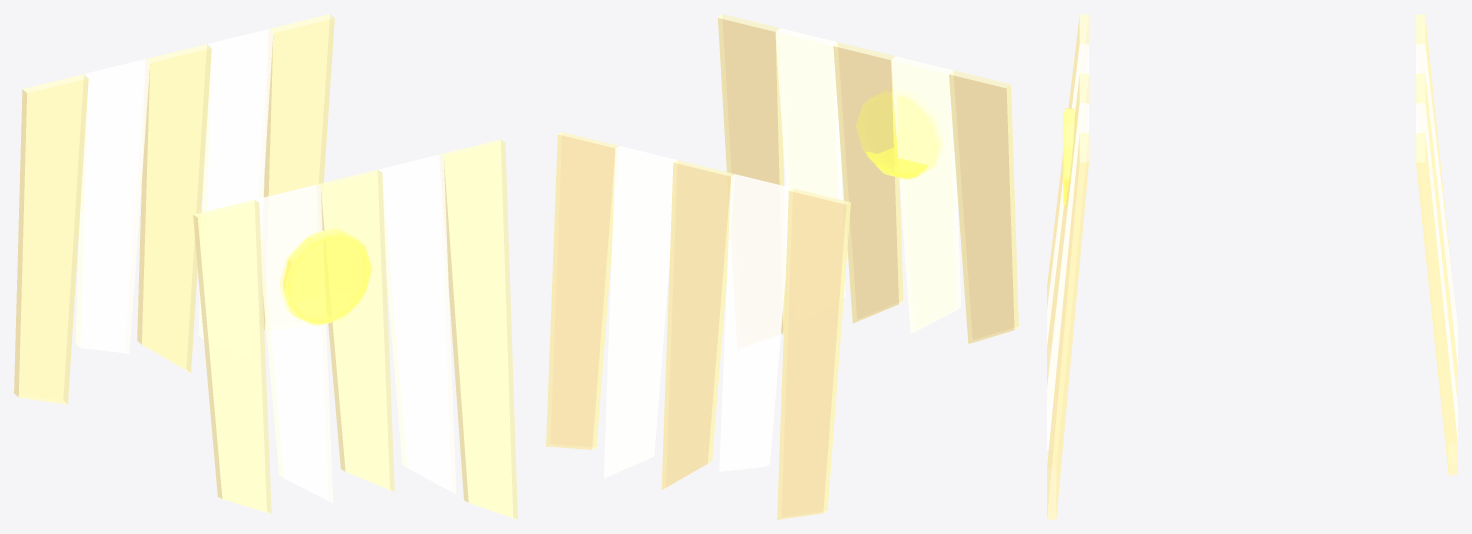
File: sentinel_tabard.glb
The picture shows the model from 3 angles, left to right: view 1: azimuth 30°, elevation 25°; view 2: azimuth 150°, elevation 25°; view 3: azimuth 270°, elevation 25°; orthographic projection. The views are drawn at different scales.
Visible parts, largest first — view 1: sentinel_tabard; view 2: sentinel_tabard; view 3: sentinel_tabard.
Part boxes in pixels (x1,y1,x2,y2): sentinel_tabard: (14, 14, 517, 519); sentinel_tabard: (546, 14, 1018, 519); sentinel_tabard: (1047, 14, 1457, 519).
Size of the model in its own units: 0.75 by 0.8506 by 0.8799.
